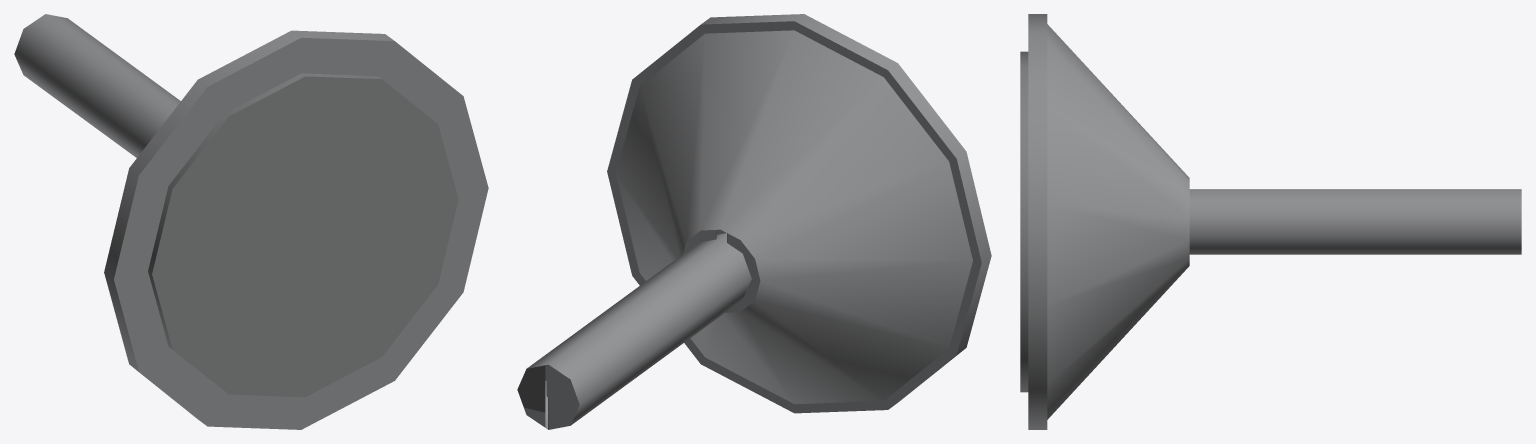
3 views of the same model, side by side, from view 1: azimuth 30°, elevation 25°; view 2: azimuth 150°, elevation 25°; view 3: azimuth 270°, elevation 25° (orthographic). The views are drawn at different scales.
Bounding box in the file's own units: 0.132 × 0.132 × 0.1585.
